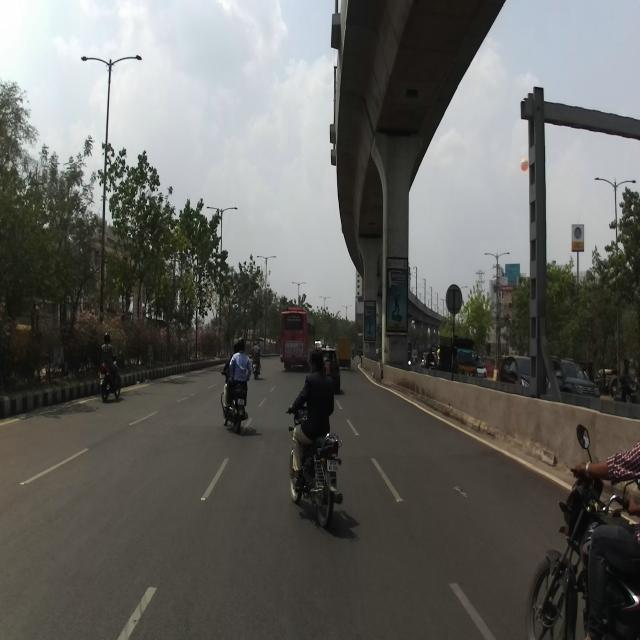motorcycle: (524, 424, 640, 639), (285, 404, 344, 526), (220, 370, 248, 432)
